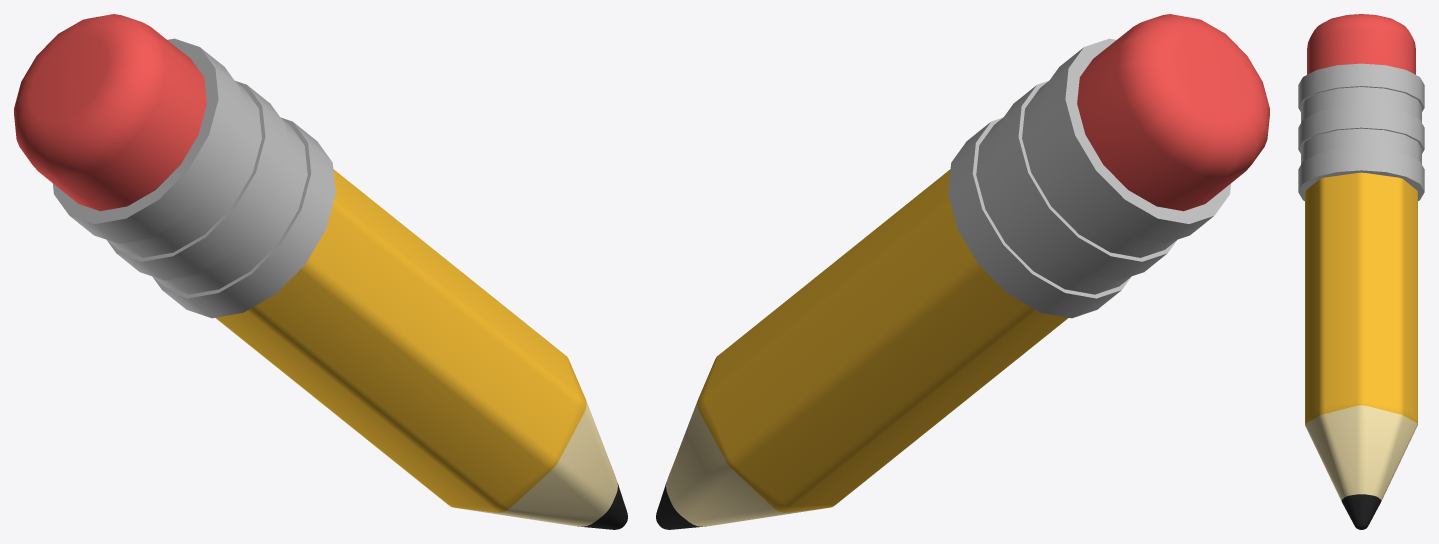
Rendered from pencil.glb.
The picture shows the model from 3 angles, left to right: view 1: azimuth 30°, elevation 25°; view 2: azimuth 150°, elevation 25°; view 3: azimuth 270°, elevation 25°; orthographic projection. The views are drawn at different scales.
Parts seen in each view (by area): view 1: Circle.2562; view 2: Circle.2562; view 3: Circle.2562.
Boxes of the visible parts, x1=… form: Circle.2562: x1=14, y1=14, x2=627, y2=529; Circle.2562: x1=656, y1=14, x2=1269, y2=529; Circle.2562: x1=1298, y1=14, x2=1424, y2=529.
Size of the model in its own units: 2.14 by 2.14 by 0.6604.
Materials: 1 (1 with a texture image).
